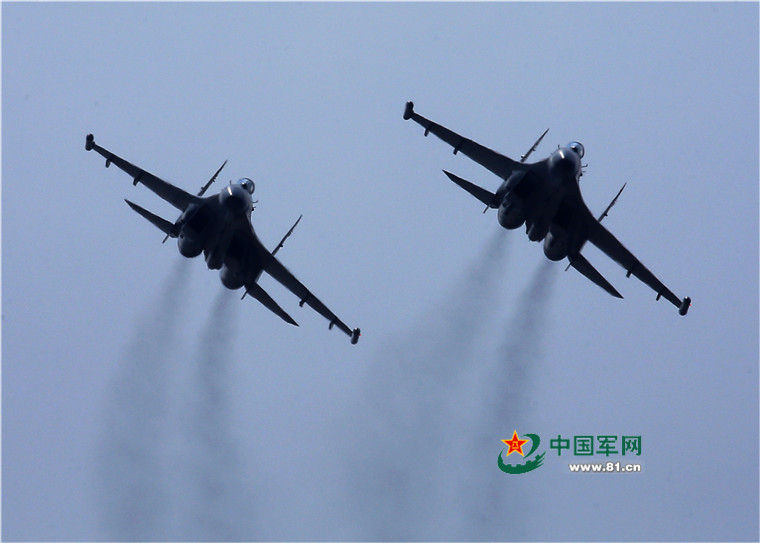airplane: (391, 91, 694, 317), (76, 130, 365, 343)
